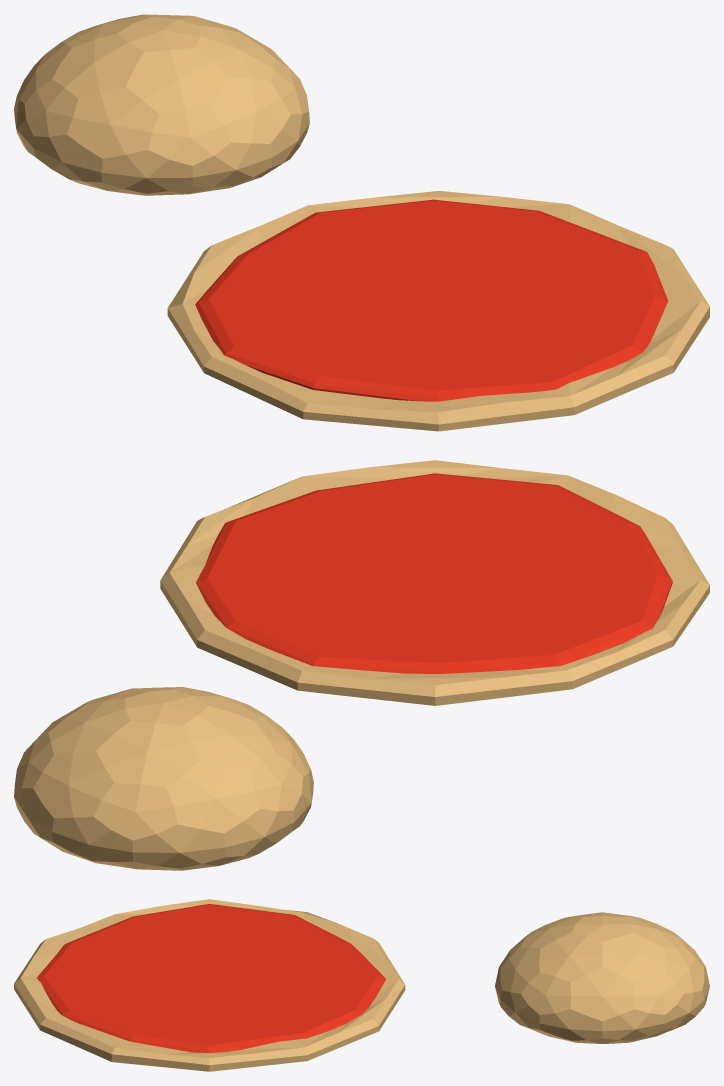
Rendered from DoughPackage.fbx.
3 views of the same model, one above another, from view 1: azimuth 30°, elevation 25°; view 2: azimuth 150°, elevation 25°; view 3: azimuth 270°, elevation 25° (orthographic). The views are drawn at different scales.
Visible parts, largest first — view 1: Sauce, DoughBall, FlatDough; view 2: Sauce, DoughBall, FlatDough; view 3: Sauce, DoughBall, FlatDough.
Part boxes in pixels (<box>): Sauce: <box>195,199,667,401</box>; DoughBall: <box>14,14,309,195</box>; FlatDough: <box>167,191,709,431</box>; Sauce: <box>196,473,672,673</box>; DoughBall: <box>14,687,313,870</box>; FlatDough: <box>160,460,709,705</box>; Sauce: <box>37,904,385,1052</box>; DoughBall: <box>495,912,709,1043</box>; FlatDough: <box>14,899,405,1071</box>.
Bounding box in the file's own units: 200 × 48.86 × 356.
